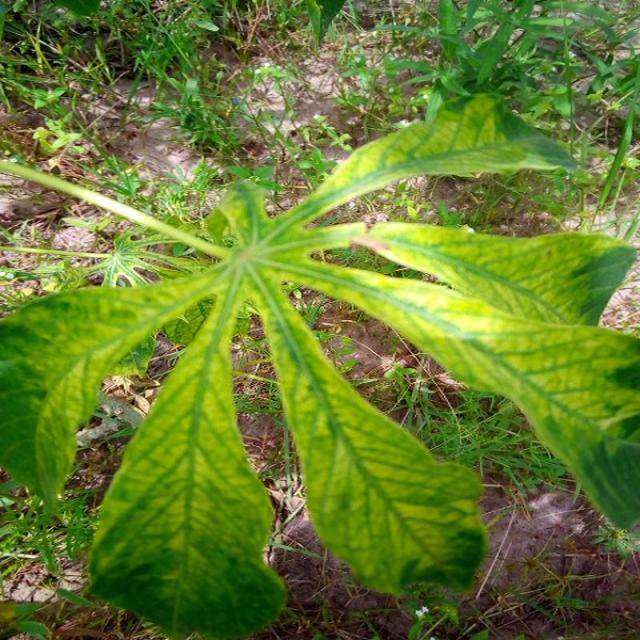cassava leaf: (1, 90, 638, 636), (86, 265, 288, 638)
